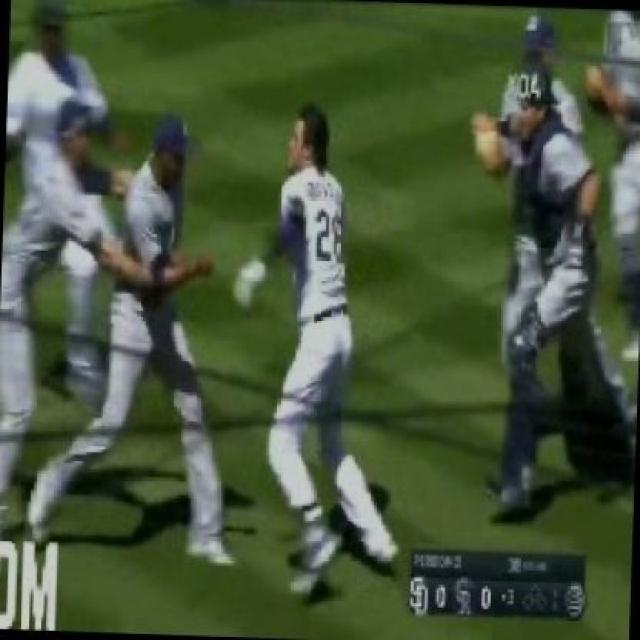fight: (28, 103, 406, 599)
non-fight: (0, 97, 209, 524), (498, 69, 612, 522)
